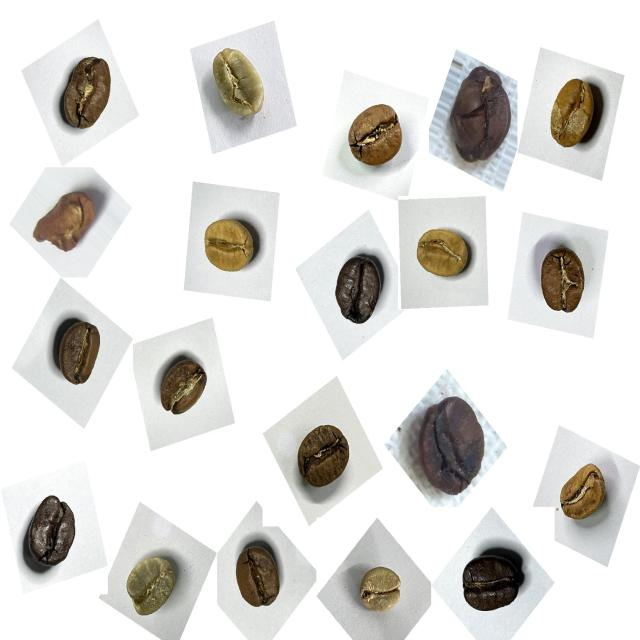bad: (408, 384, 502, 503), (440, 54, 521, 174), (29, 178, 109, 264)
dark: (452, 536, 532, 629), (12, 485, 86, 582), (320, 242, 392, 336)
green: (199, 36, 277, 132), (116, 544, 187, 630), (351, 559, 412, 628)
light: (192, 204, 266, 288), (408, 216, 480, 295)
medium: (537, 66, 612, 162), (49, 48, 122, 143), (337, 92, 414, 182), (528, 239, 599, 331), (286, 415, 360, 502), (550, 454, 619, 534), (227, 537, 292, 620), (46, 314, 110, 397), (149, 351, 216, 428)
